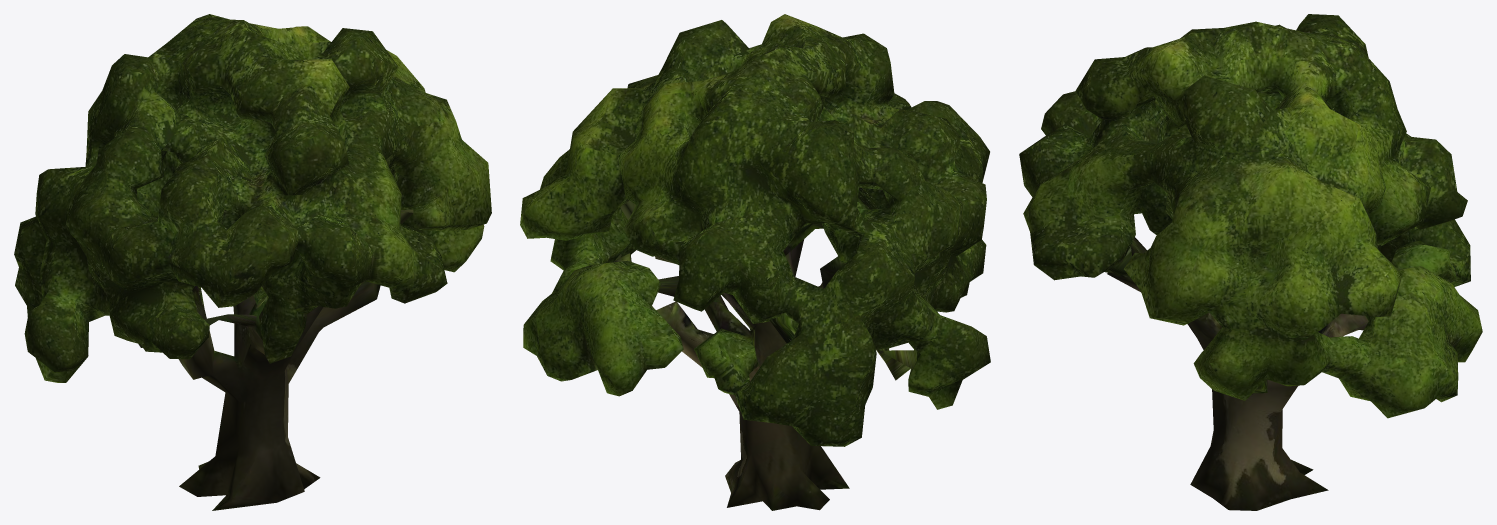
The model's file is tree2.glb.
3 views of the same model, side by side, from view 1: azimuth 30°, elevation 25°; view 2: azimuth 150°, elevation 25°; view 3: azimuth 270°, elevation 25° (orthographic). The views are drawn at different scales.
Visible parts, largest first — view 1: tree2; view 2: tree2; view 3: tree2.
Part boxes in pixels (box(x1,y1,x2,y2)): tree2: box(14, 14, 491, 510); tree2: box(520, 14, 990, 510); tree2: box(1019, 14, 1482, 510).
Size of the model in its own units: 12.03 by 12 by 10.94.
1 material, 1 textured.
